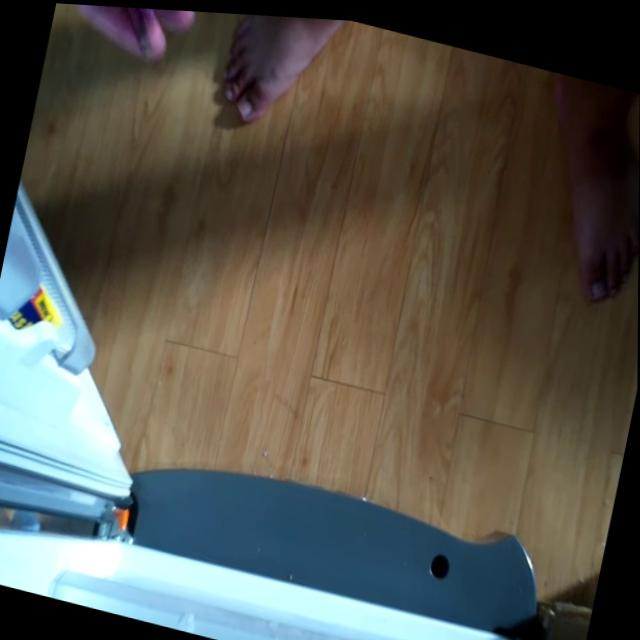onion: (80, 4, 189, 59)
